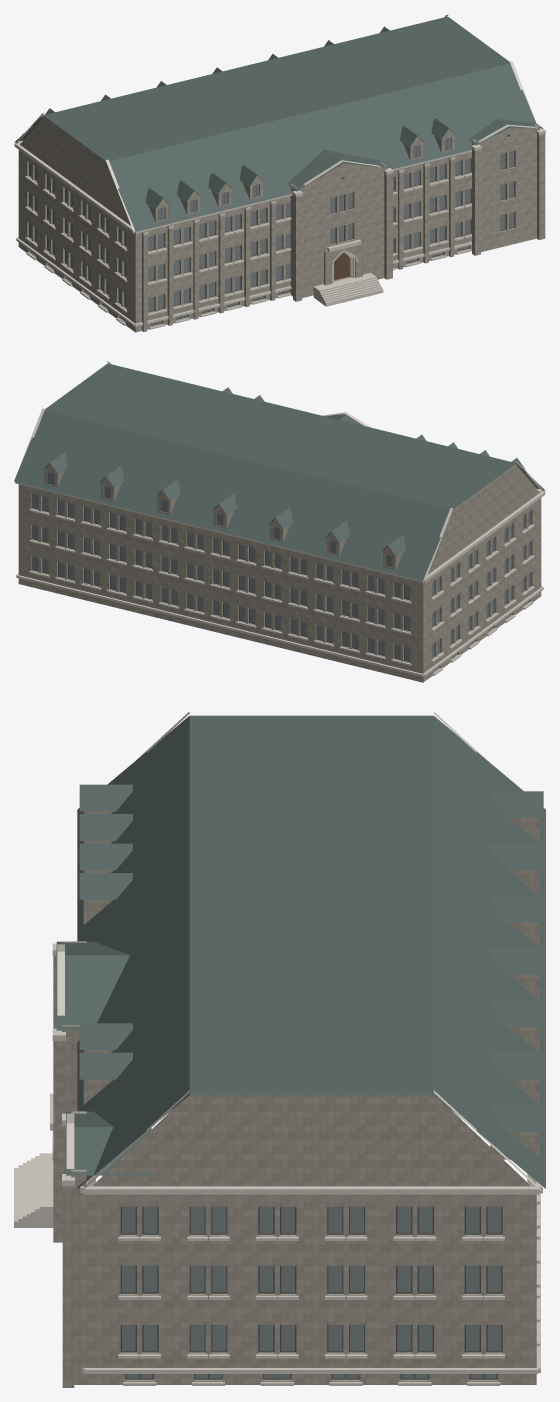
3 renders of one model, top to bottom at view 1: azimuth 30°, elevation 25°; view 2: azimuth 150°, elevation 25°; view 3: azimuth 270°, elevation 25°, orthographic. The views are drawn at different scales.
Parts seen in each view (by area): view 1: mainHall__roof_slate, mainHall__stone, mainHall__stone_trim, mainHall__glass_window, mainHall__frame_dark; view 2: mainHall__roof_slate, mainHall__stone, mainHall__glass_window, mainHall__stone_trim, mainHall__frame_dark; view 3: mainHall__roof_slate, mainHall__stone, mainHall__stone_trim, mainHall__glass_window, mainHall__frame_dark.
Part boxes in pixels (left/top/right/bottom): mainHall__roof_slate: left=14, top=16, right=543, bottom=231; mainHall__stone: left=18, top=116, right=545, bottom=332; mainHall__stone_trim: left=14, top=14, right=545, bottom=329; mainHall__glass_window: left=29, top=135, right=513, bottom=325; mainHall__frame_dark: left=29, top=134, right=514, bottom=325; mainHall__roof_slate: left=14, top=363, right=545, bottom=580; mainHall__stone: left=18, top=463, right=541, bottom=682; mainHall__glass_window: left=33, top=472, right=530, bottom=670; mainHall__stone_trim: left=14, top=361, right=545, bottom=676; mainHall__frame_dark: left=32, top=472, right=530, bottom=671; mainHall__roof_slate: left=56, top=715, right=545, bottom=1188; mainHall__stone: left=53, top=811, right=539, bottom=1387; mainHall__stone_trim: left=14, top=711, right=542, bottom=1385; mainHall__glass_window: left=122, top=1206, right=501, bottom=1378; mainHall__frame_dark: left=120, top=1206, right=502, bottom=1379.
Size of the model in its own units: 58.39 by 21.35 by 34.38.
6 materials, 1 textured.
